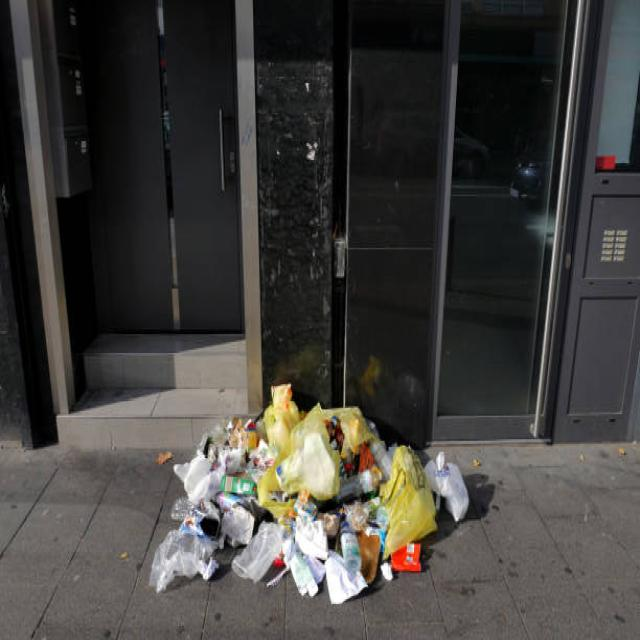trash: (140, 400, 476, 595)
